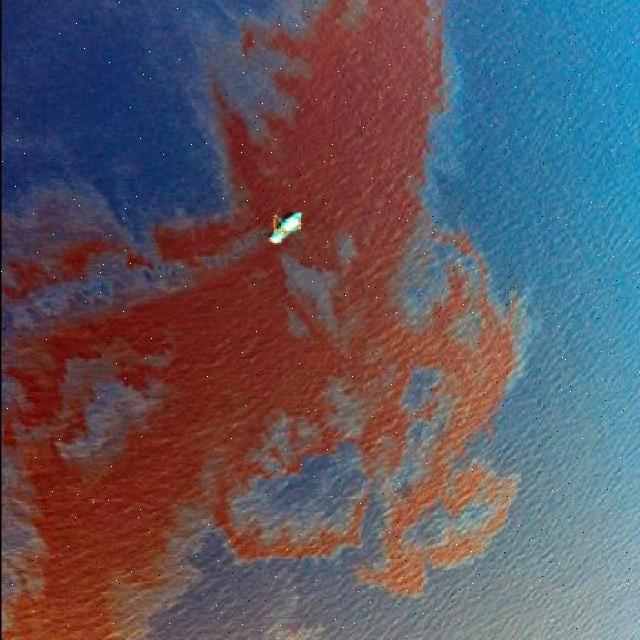truecolor: (3, 0, 515, 640)
